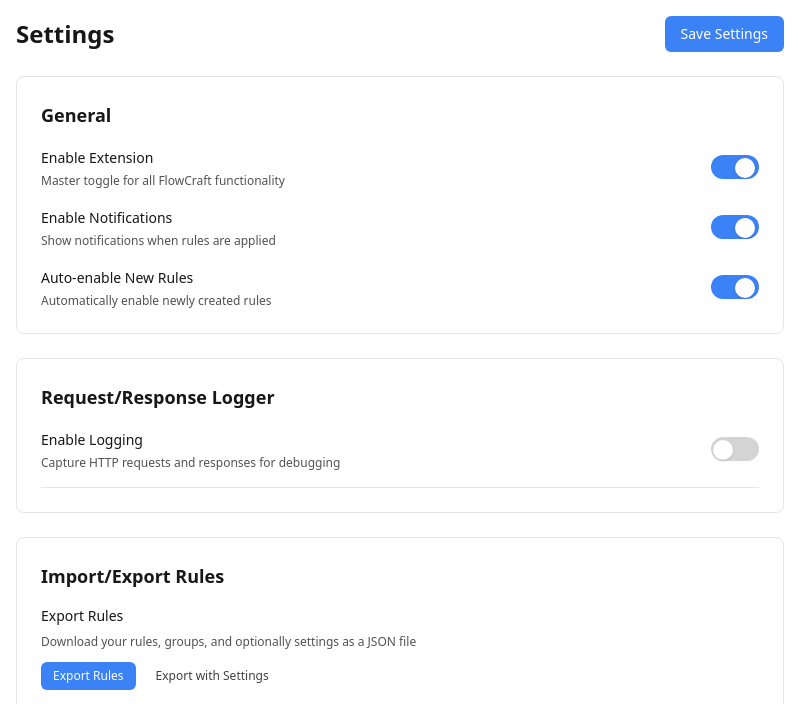
it: SettingsView › Logger Settings › should toggle logger enabled state
Expected: the heading "Settings" is shown, [16,18,114,50]
What coordinates should you click on to do the following:
click the button with test id "logger-enabled-toggle"
I would click on:
 (735, 449)
Its box is [711,437,759,461].
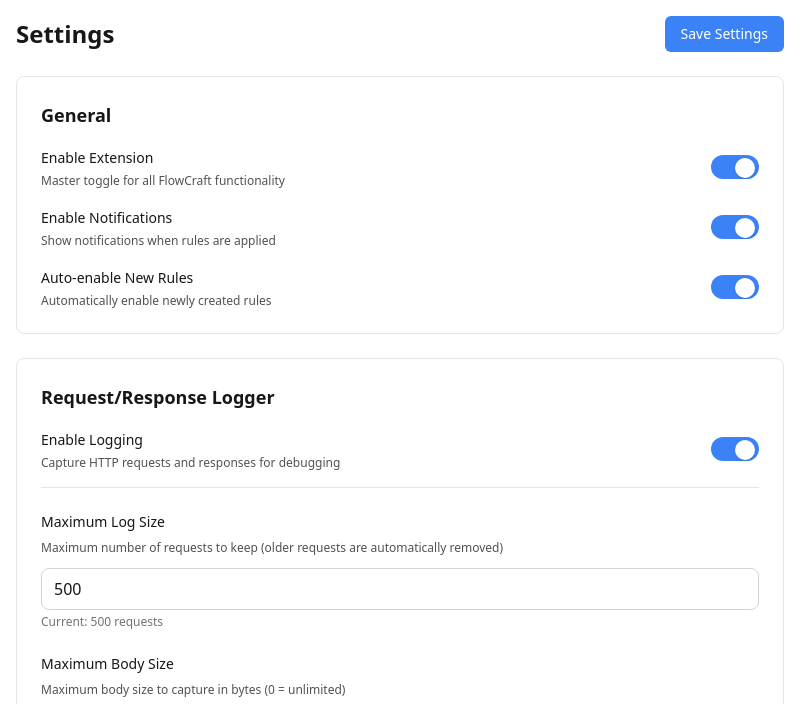
Expected: the text "Maximum Log Size" is shown, [41,512,165,531]
